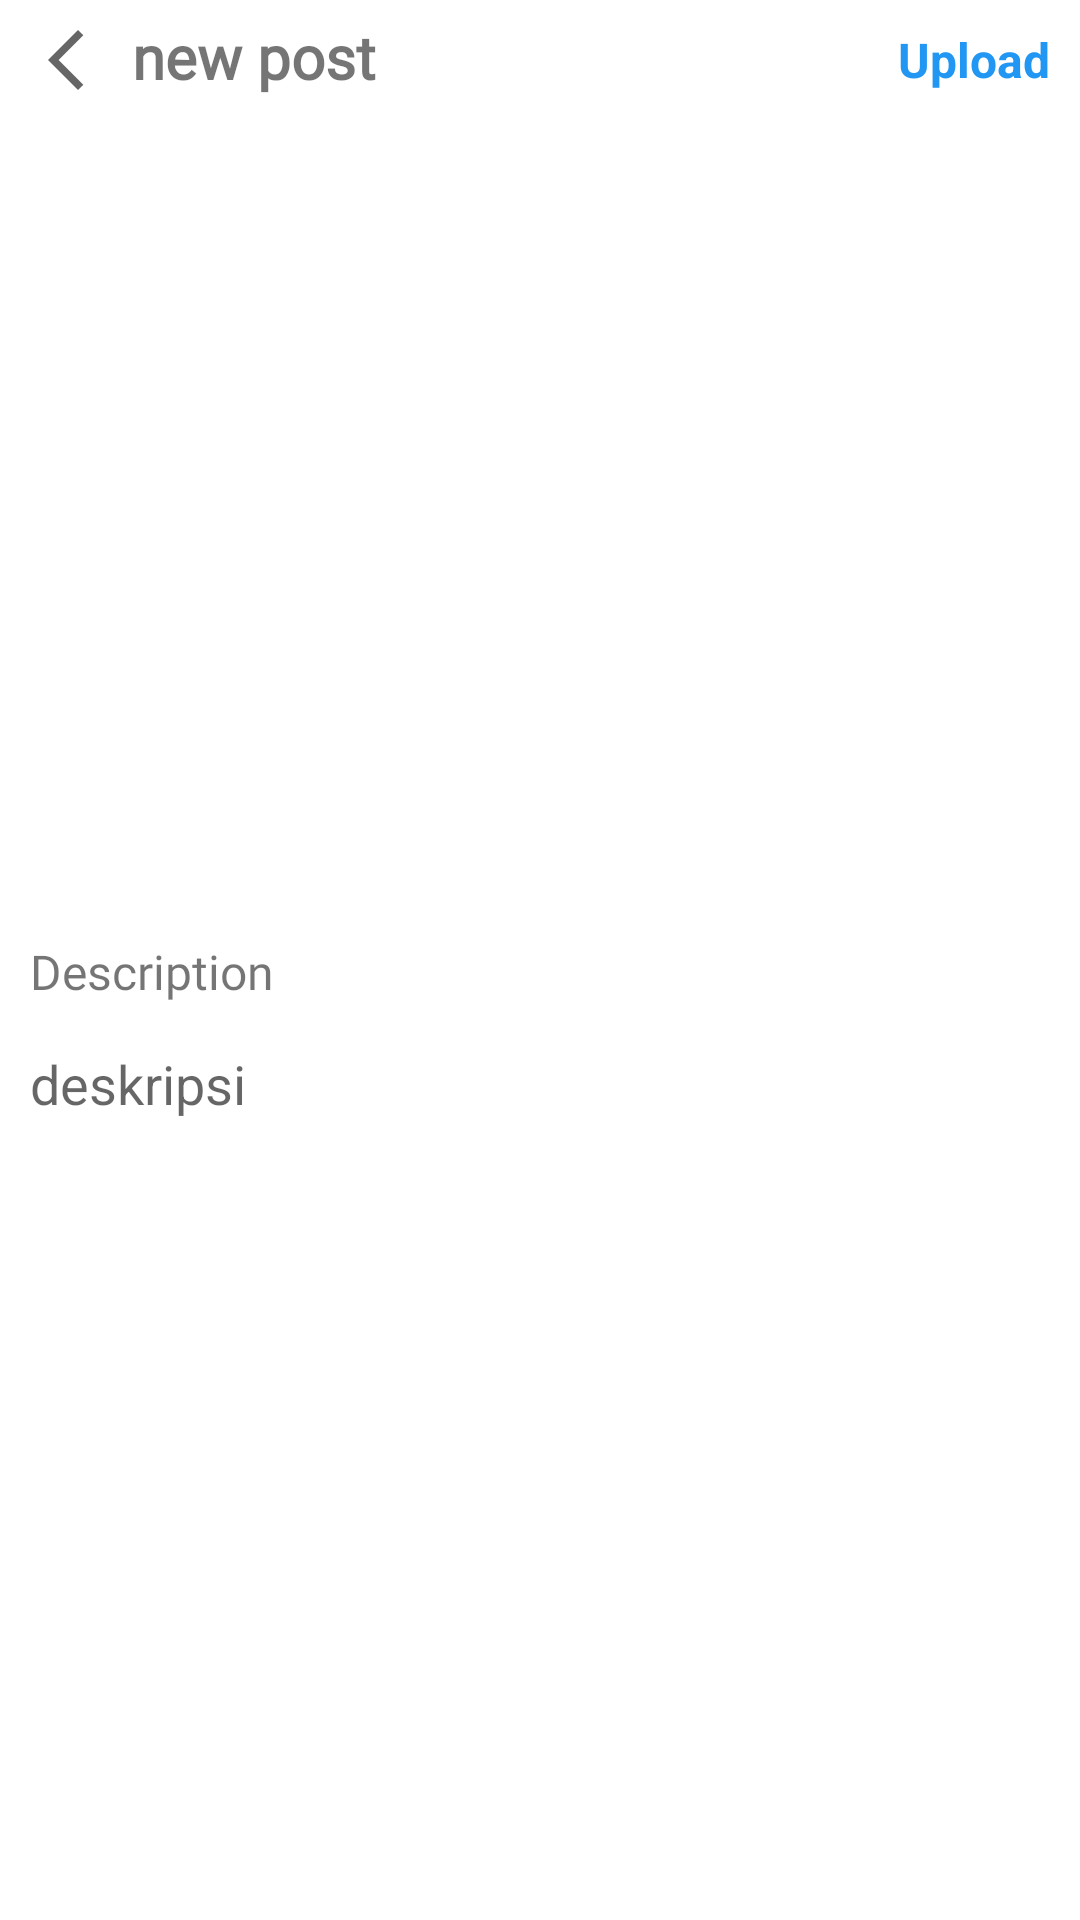

Icons on this 1080px×1920px Android screen, each with the point to tap as [x,y]:
arrow back camera: [65,60]
